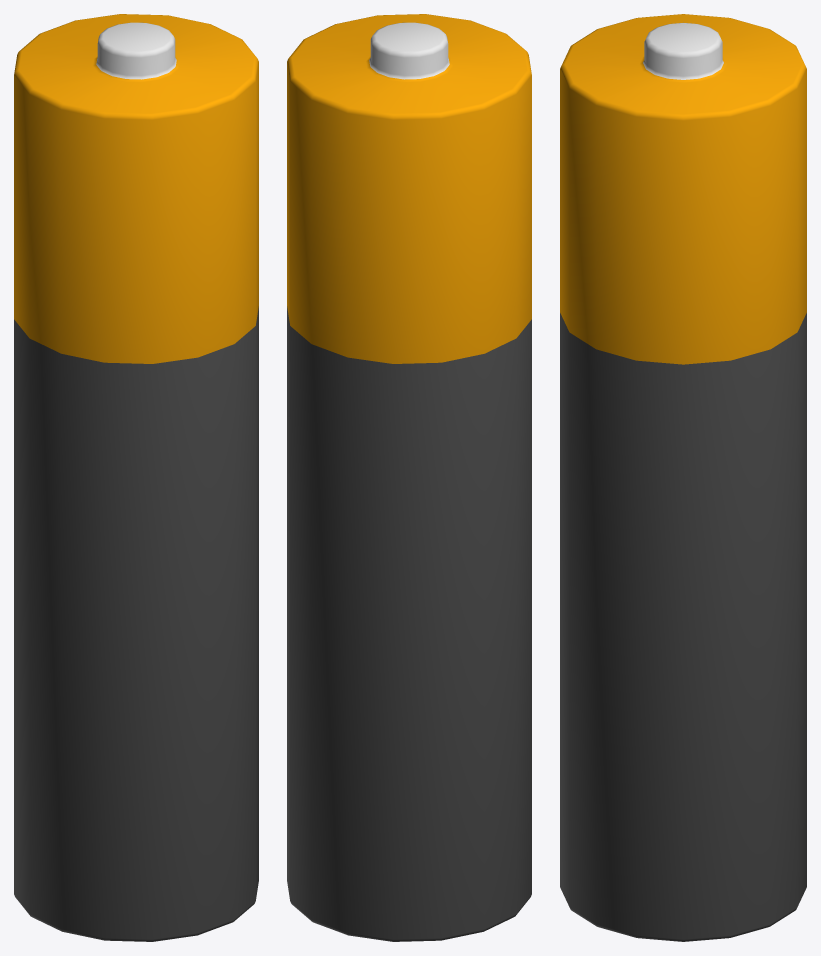
Rendered from battery.fbx.
The picture shows the model from 3 angles, left to right: view 1: azimuth 30°, elevation 25°; view 2: azimuth 150°, elevation 25°; view 3: azimuth 270°, elevation 25°; orthographic projection.
Visible parts, largest first — view 1: Cylinder; view 2: Cylinder; view 3: Cylinder.
Boxes of the visible parts, x1,y1,x2,y2 form: Cylinder: (14,14,258,941); Cylinder: (287,14,531,941); Cylinder: (560,14,806,941).
Size of the model in its own units: 1000 by 3820 by 1000.
